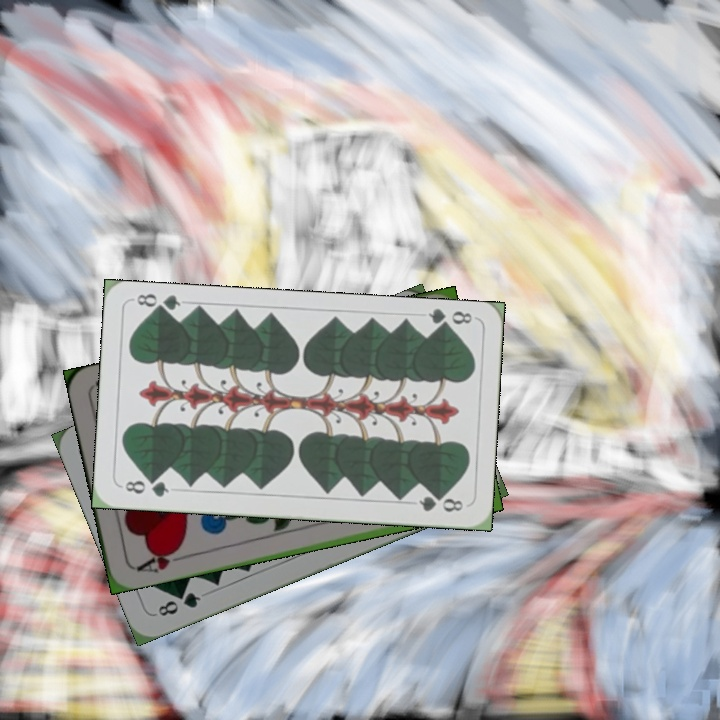G8: (151, 588, 204, 619), (424, 305, 474, 334), (121, 475, 172, 500)
HA: (132, 543, 190, 576)
